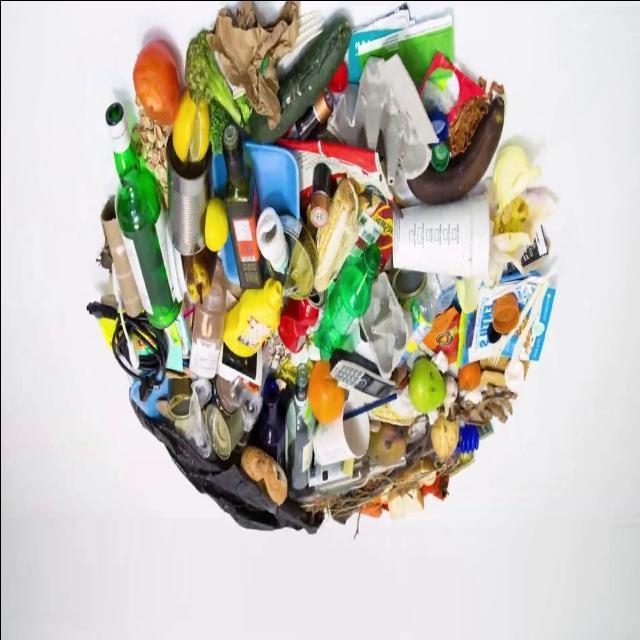Disposable: (391, 194, 489, 276)
E_waste: (86, 301, 168, 400), (329, 349, 395, 398), (255, 207, 289, 273), (296, 87, 332, 138), (309, 162, 330, 227)
Garbage: (86, 2, 555, 531)
Glass_bottle: (105, 102, 180, 329), (221, 123, 262, 287), (236, 334, 277, 449), (285, 364, 315, 489), (290, 459, 370, 502), (256, 376, 284, 458)
Plastic: (242, 140, 299, 217), (428, 109, 449, 171), (491, 292, 518, 333), (220, 234, 238, 284), (210, 153, 226, 198), (455, 426, 479, 451)
Plastic_Bag: (174, 383, 211, 458)
Plastic_Container: (221, 278, 281, 356), (189, 282, 225, 378), (166, 378, 191, 418)
Plastic_Straw: (342, 391, 396, 419)
Plastic_bottle: (312, 244, 380, 360), (400, 271, 455, 362)
Plastic_wraper: (280, 139, 392, 267), (358, 14, 452, 87), (418, 51, 484, 124), (422, 306, 459, 362)
Tin_box: (279, 213, 316, 300), (205, 402, 241, 460), (391, 269, 426, 296)
can: (278, 292, 324, 353)
